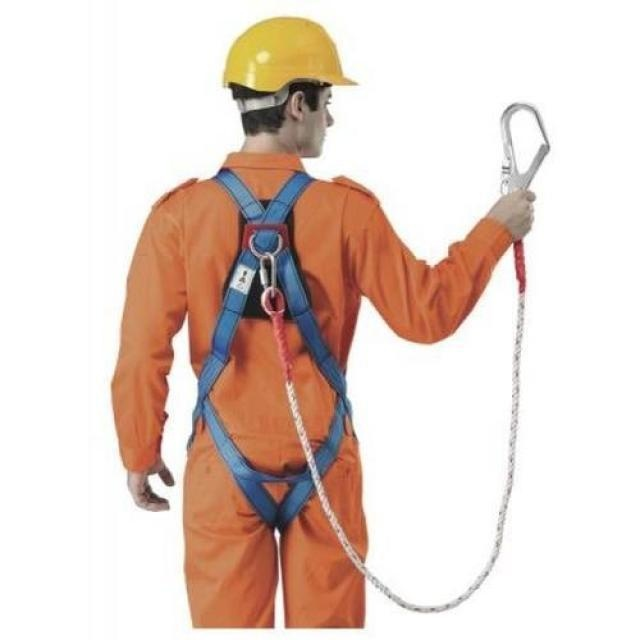Arnes_seguridad: (186, 156, 356, 534)
